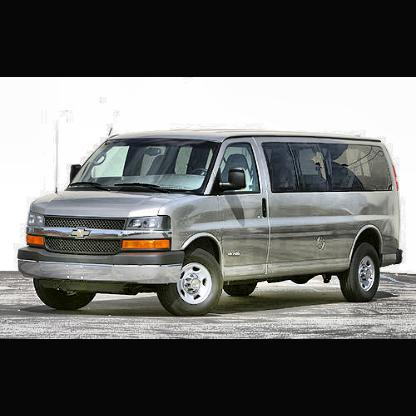Chevrolet Express Van 2007: (20, 129, 405, 317)
